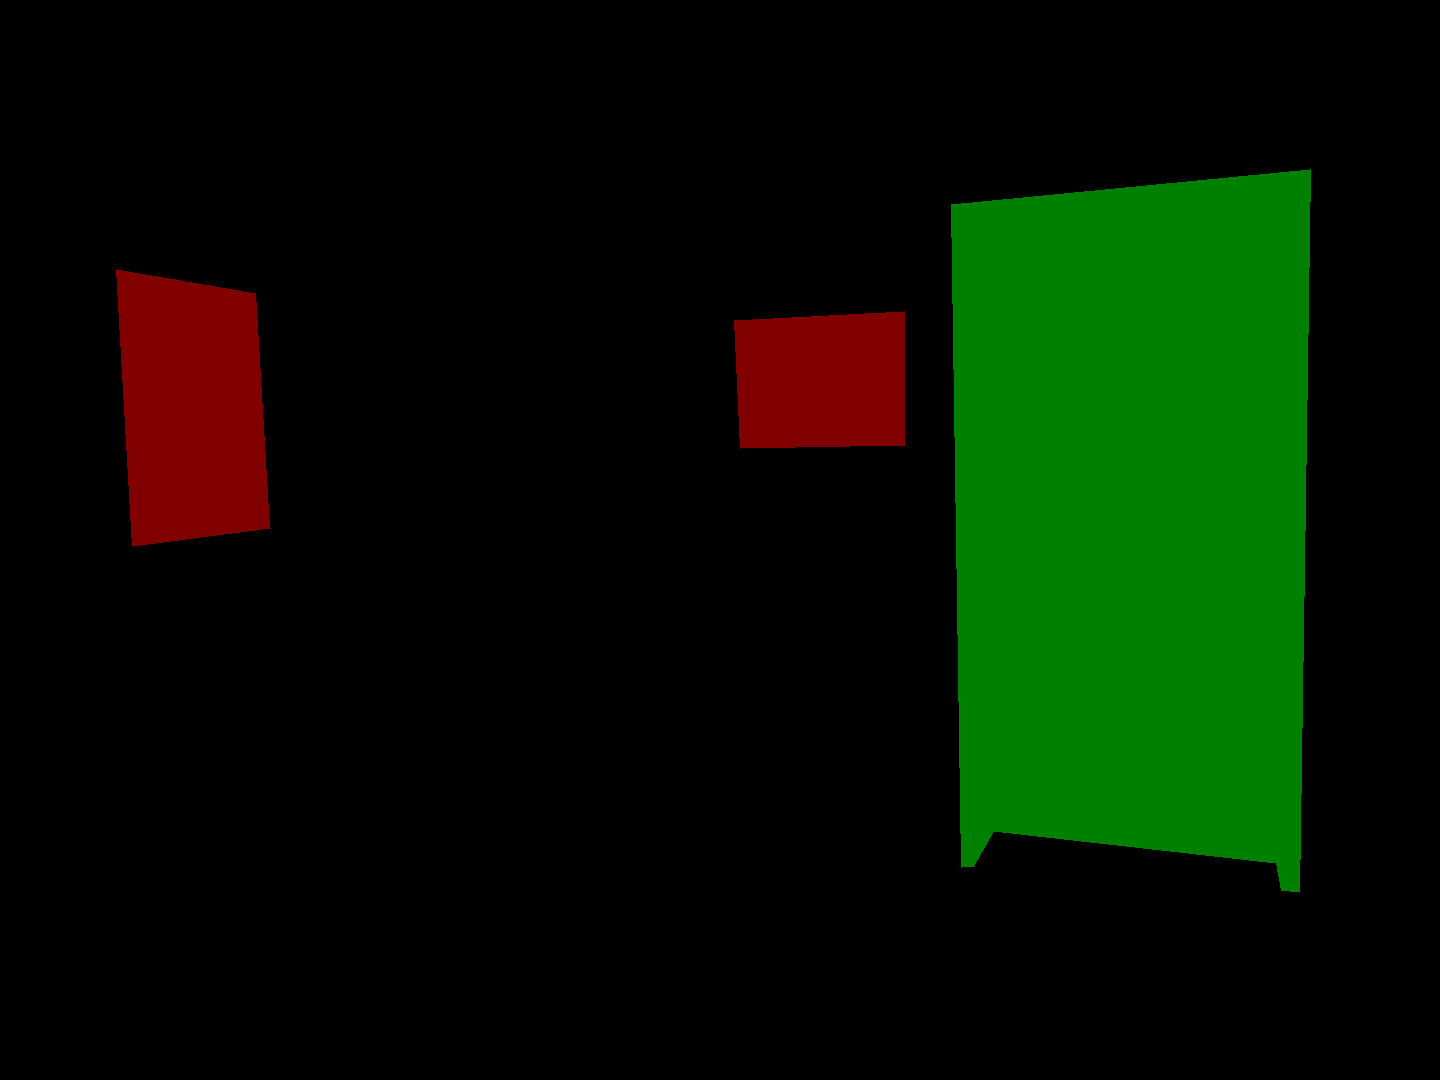door: (951, 169, 1310, 892)
sign: (116, 269, 269, 546), (734, 311, 904, 448)
